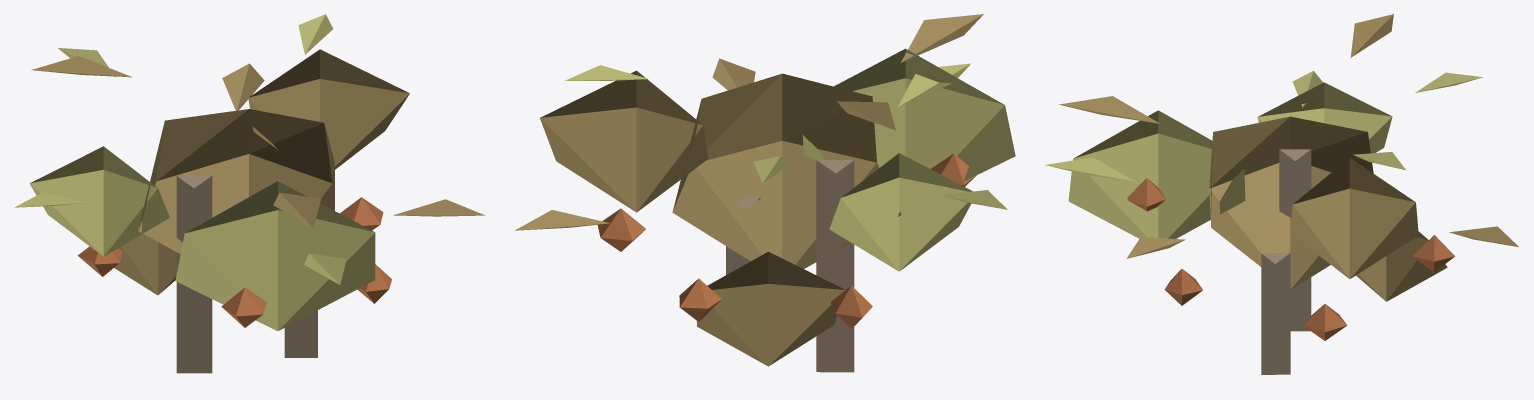
File: nong.da@fruiting__autumn.glb
3 views of the same model, side by side, from view 1: azimuth 30°, elevation 25°; view 2: azimuth 150°, elevation 25°; view 3: azimuth 270°, elevation 25° (orthographic). The views are drawn at different scales.
Parts seen in each view (by area): view 1: nong.da@fruiting__autumn; view 2: nong.da@fruiting__autumn; view 3: nong.da@fruiting__autumn.
Part boxes in pixels (x1,y1,x2,y2): nong.da@fruiting__autumn: (14,14,485,373); nong.da@fruiting__autumn: (515,14,1015,372); nong.da@fruiting__autumn: (1045,14,1518,374).
Size of the model in its own units: 1.41 by 0.966 by 1.51.
